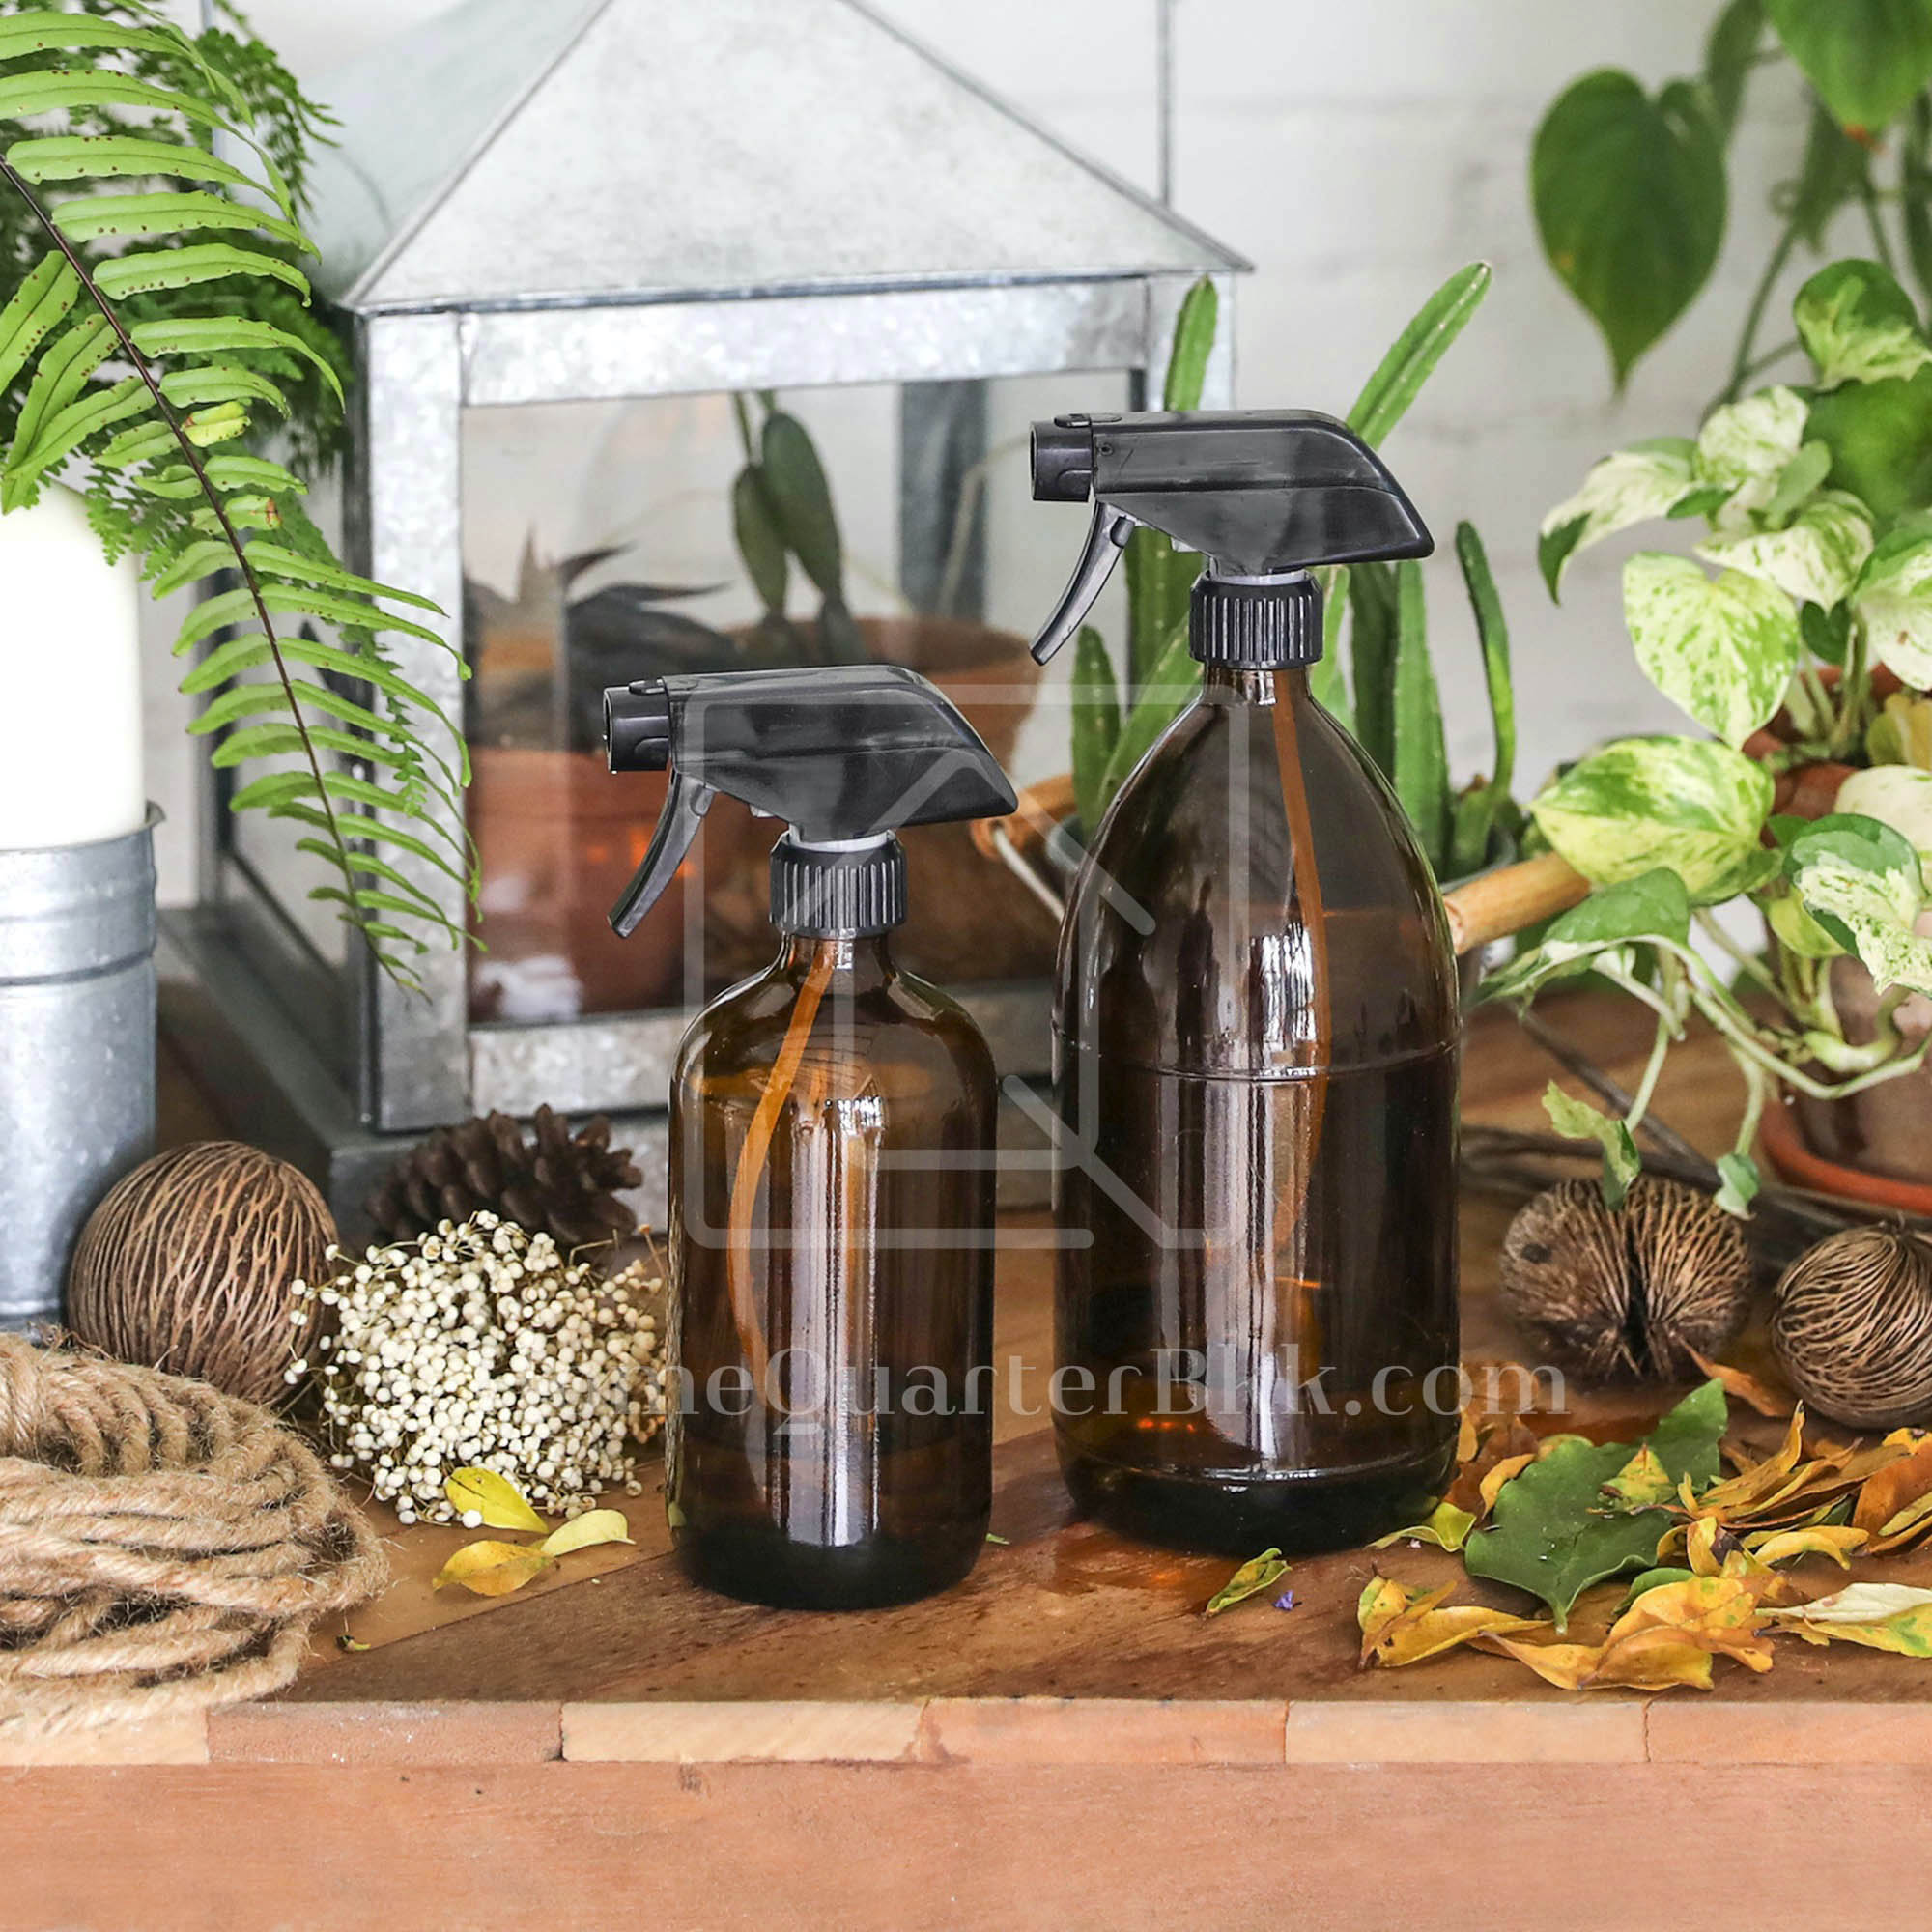glass_bottle: (1010, 398, 1504, 1580), (591, 658, 1044, 1633)
